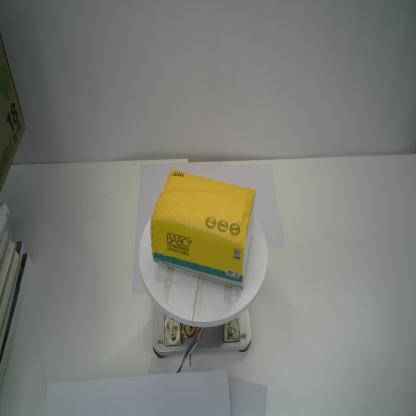Tissue: (148, 167, 259, 293)
